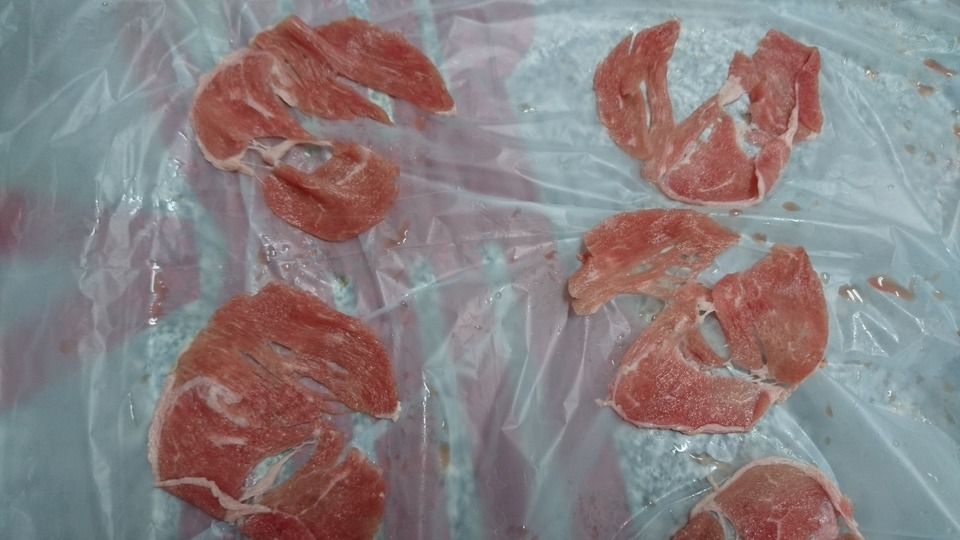restructured meat: (144, 256, 428, 540), (190, 14, 461, 233), (560, 218, 815, 428), (572, 20, 806, 213), (675, 452, 860, 540)
